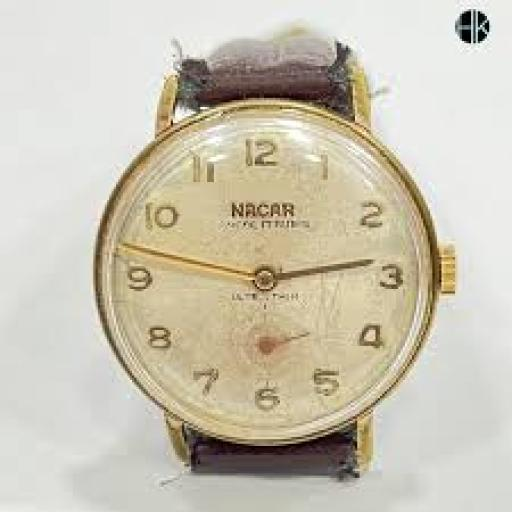KolSaati: (80, 20, 462, 486)
